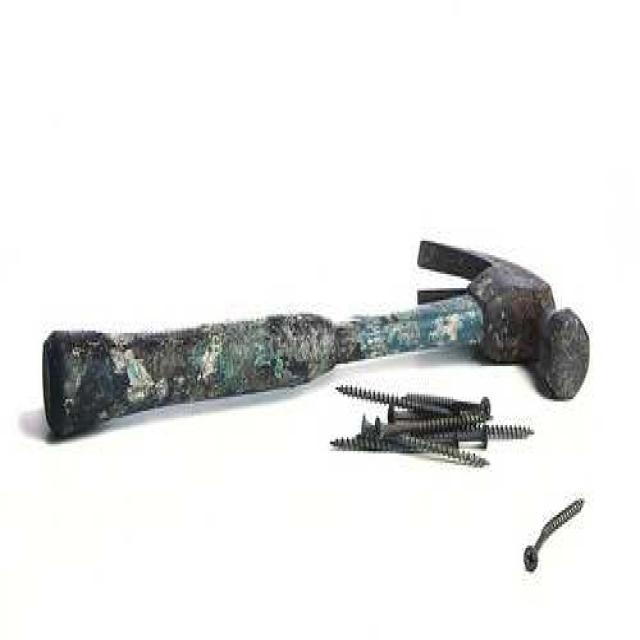hammer: (42, 231, 592, 452)
